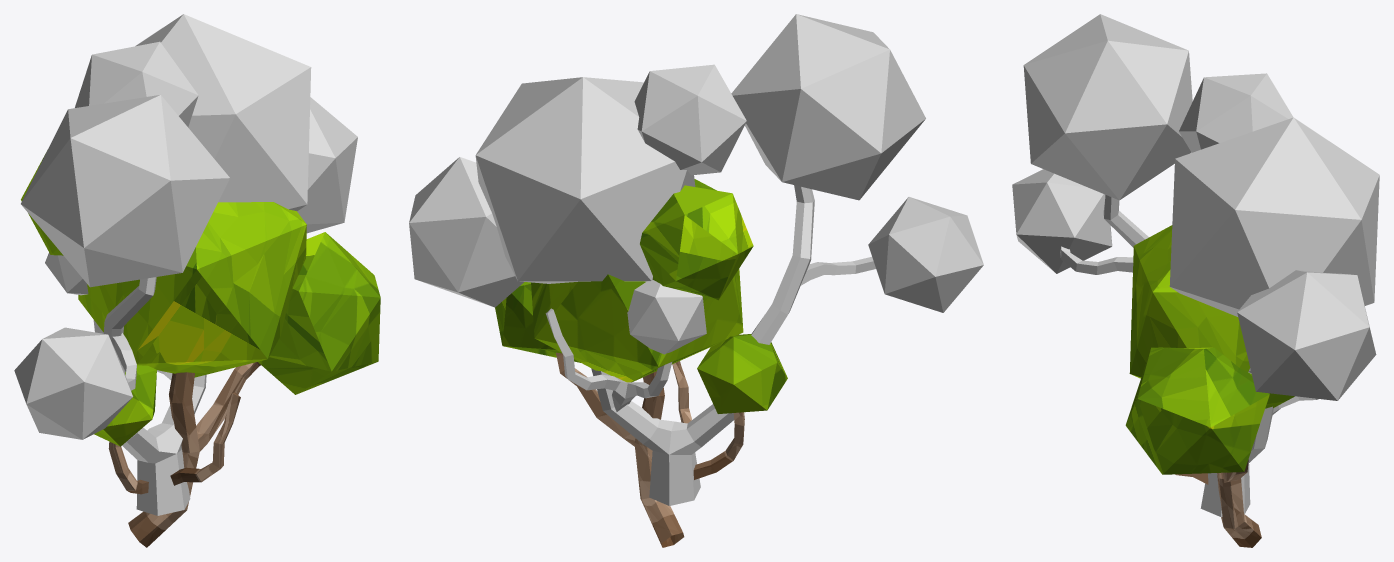
File: tree 2.fbx
3 views of the same model, side by side, from view 1: azimuth 30°, elevation 25°; view 2: azimuth 150°, elevation 25°; view 3: azimuth 270°, elevation 25° (orthographic). The views are drawn at different scales.
Visible parts, largest first — view 1: Tree_lp_11.001, Tree_lp_11; view 2: Tree_lp_11.001, Tree_lp_11; view 3: Tree_lp_11.001, Tree_lp_11.
Part boxes in pixels (x1,y1,x2,y2): Tree_lp_11.001: [14, 14, 357, 515]; Tree_lp_11: [21, 150, 380, 547]; Tree_lp_11.001: [409, 14, 983, 505]; Tree_lp_11: [495, 179, 787, 547]; Tree_lp_11.001: [1012, 14, 1379, 516]; Tree_lp_11: [1125, 225, 1294, 547].
Bounding box in the file's own units: 2798 × 2991 × 2074.
